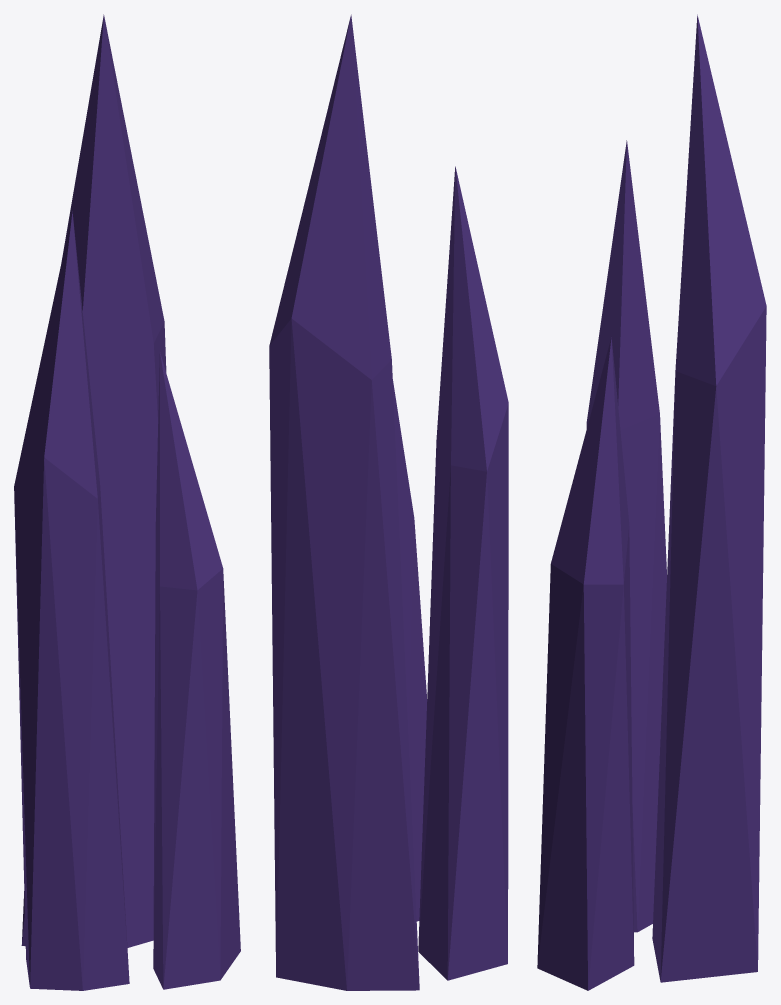
The model's file is crystal.gltf.
3 views of the same model, side by side, from view 1: azimuth 30°, elevation 25°; view 2: azimuth 150°, elevation 25°; view 3: azimuth 270°, elevation 25° (orthographic). The views are drawn at different scales.
Parts seen in each view (by area): view 1: Icosphere.002, Icosphere, Icosphere.001; view 2: Icosphere, Icosphere.002, Icosphere.001; view 3: Icosphere, Icosphere.001, Icosphere.002.
Boxes of the visible parts, x1=… form: Icosphere.002: x1=14, y1=211, x2=129, y2=990; Icosphere: x1=21, y1=14, x2=166, y2=947; Icosphere.001: x1=153, y1=352, x2=240, y2=989; Icosphere: x1=269, y1=14, x2=419, y2=990; Icosphere.002: x1=418, y1=166, x2=508, y2=980; Icosphere.001: x1=392, y1=379, x2=427, y2=921; Icosphere: x1=652, y1=14, x2=766, y2=982; Icosphere.001: x1=537, y1=337, x2=634, y2=990; Icosphere.002: x1=586, y1=140, x2=666, y2=932.
Size of the model in its own units: 7.92 by 35.49 by 7.87.
